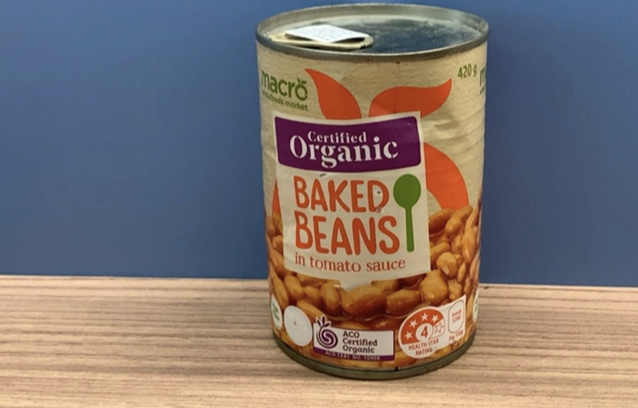Baked beans_400-499g: (271, 74, 476, 353)
